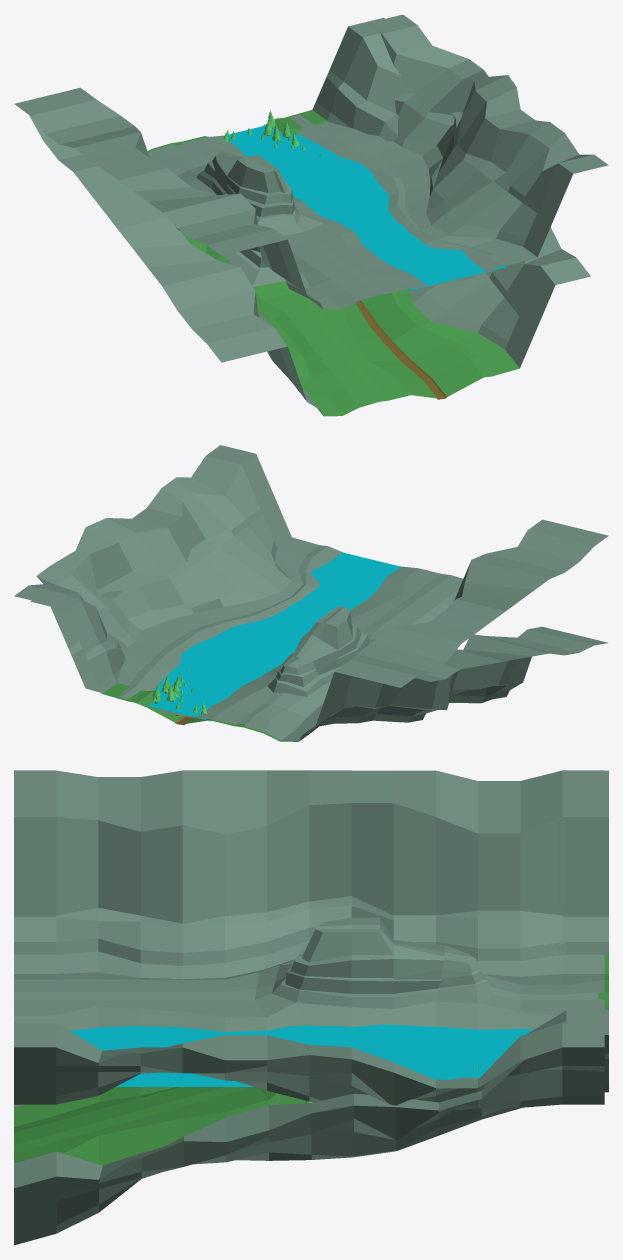
File: Mountain.fbx
3 views of the same model, one above another, from view 1: azimuth 30°, elevation 25°; view 2: azimuth 150°, elevation 25°; view 3: azimuth 270°, elevation 25° (orthographic). The views are drawn at different scales.
Parts seen in each view (by area): view 1: Plane.002, Plane, Plane.001; view 2: Plane.002, Plane, Plane.001; view 3: Plane.002, Plane, Plane.001.
Part boxes in pixels (box(x1,y1,x2,y2)): Plane.002: box(16, 14, 608, 309); Plane: box(14, 17, 590, 416); Plane.001: box(223, 125, 506, 289); Plane.002: box(14, 445, 608, 740); Plane: box(30, 589, 607, 741); Plane.001: box(116, 552, 400, 721); Plane.002: box(14, 770, 604, 1110); Plane: box(14, 770, 608, 1245); Plane.001: box(70, 1024, 533, 1086).
Bounding box in the file's own units: 37584 × 17334 × 32982.
